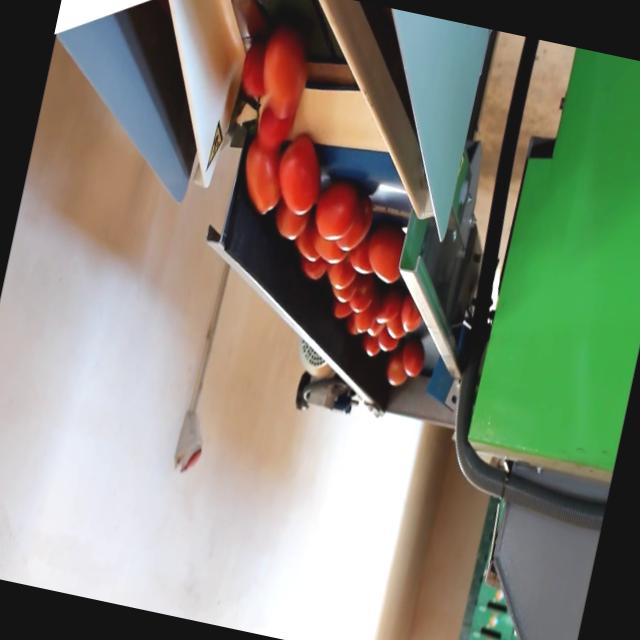Tomato: (252, 27, 316, 122), (272, 130, 331, 216), (232, 136, 291, 220), (363, 219, 413, 284), (312, 184, 358, 240), (235, 49, 276, 105), (258, 108, 294, 149), (397, 342, 428, 384), (272, 205, 308, 240), (346, 239, 377, 279), (398, 298, 427, 338), (350, 278, 378, 319), (295, 226, 325, 264), (326, 259, 356, 295), (374, 290, 401, 328), (313, 238, 346, 266), (382, 358, 410, 390), (301, 256, 327, 284), (376, 328, 402, 352), (359, 338, 384, 362)
